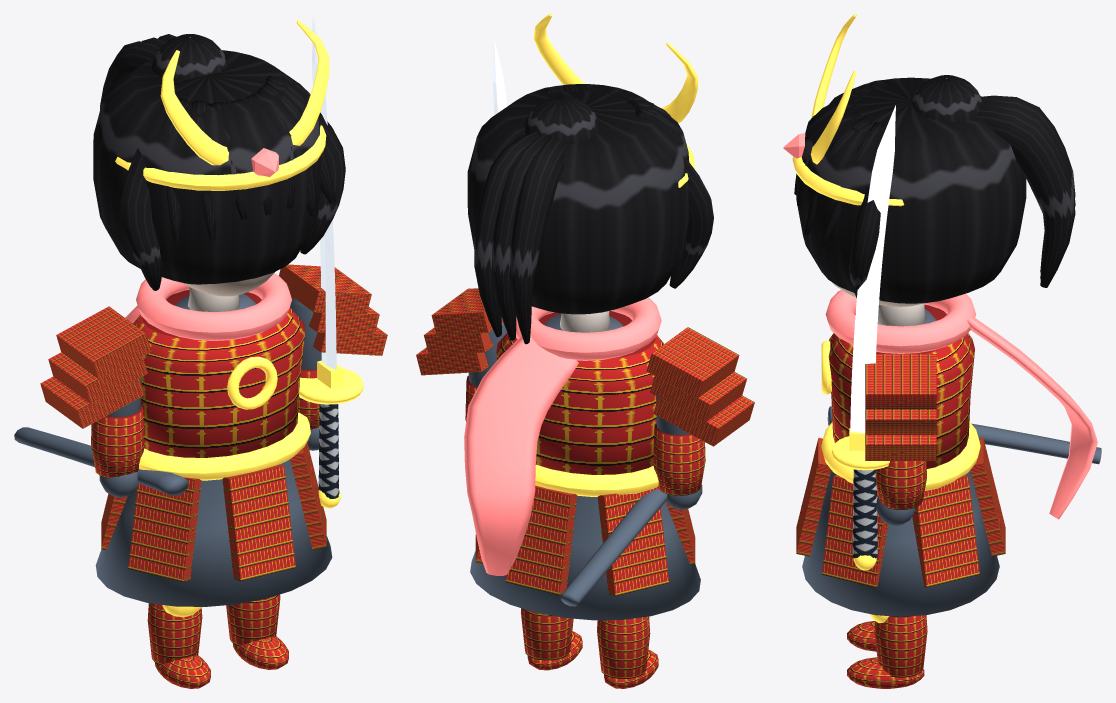
The model's file is hero_swordsman.glb.
3 views of the same model, side by side, from view 1: azimuth 30°, elevation 25°; view 2: azimuth 150°, elevation 25°; view 3: azimuth 270°, elevation 25° (orthographic). The views are drawn at different scales.
Visible parts, largest first — view 1: TorsoMesh, HairMesh, ArmMesh (×2), Headgear, LegMesh (×2), ScarfCollar, WeaponHilt, WeaponBlade, HeadMesh; view 2: HairMesh, TorsoMesh, ArmMesh (×2), ScarfStreamerMesh, LegMesh (×2), ScarfCollar, Headgear, WeaponBlade; view 3: HairMesh, TorsoMesh, ArmMesh, WeaponBlade, LegMesh (×2), ScarfCollar, ScarfStreamerMesh, WeaponHilt, Headgear.
Part boxes in pixels (box(x1,y1,x2,y2)): TorsoMesh: box(14, 287, 332, 606); HairMesh: box(93, 34, 345, 290); ArmMesh (×2): box(40, 264, 387, 497); Headgear: box(115, 20, 329, 190); LegMesh (×2): box(147, 594, 288, 688); ScarfCollar: box(136, 273, 291, 340); WeaponHilt: box(298, 360, 363, 508); WeaponBlade: box(312, 14, 336, 369); HeadMesh: box(182, 271, 275, 296); HairMesh: box(467, 84, 713, 344); TorsoMesh: box(470, 311, 700, 620); ArmMesh (×2): box(416, 288, 754, 509); ScarfStreamerMesh: box(464, 336, 578, 575); LegMesh (×2): box(521, 608, 658, 688); ScarfCollar: box(516, 297, 661, 360); Headgear: box(533, 14, 697, 187); WeaponBlade: box(493, 38, 506, 114); HairMesh: box(794, 75, 1075, 303); TorsoMesh: box(796, 303, 1101, 616); ArmMesh: box(865, 354, 936, 525); WeaponBlade: box(850, 105, 895, 432); LegMesh (×2): box(847, 614, 927, 688); ScarfCollar: box(825, 290, 976, 353); ScarfStreamerMesh: box(967, 318, 1097, 519); WeaponHilt: box(831, 428, 889, 570); Headgear: box(783, 14, 904, 206).
Bounding box in the file's own units: 1.35 × 2.7 × 1.25.
9 materials, 4 textured.
